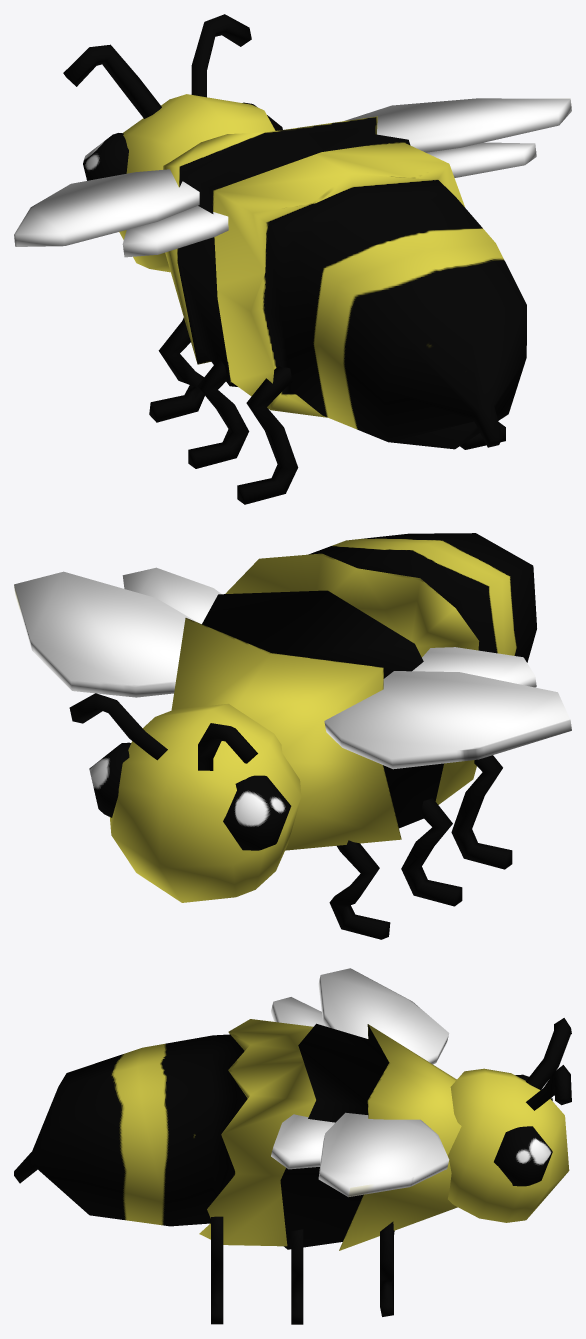
File: benson.glb
3 views of the same model, one above another, from view 1: azimuth 30°, elevation 25°; view 2: azimuth 150°, elevation 25°; view 3: azimuth 270°, elevation 25° (orthographic). The views are drawn at different scales.
Visible parts, largest first — view 1: Low Poly Bee; view 2: Low Poly Bee; view 3: Low Poly Bee.
Boxes of the visible parts, left/top/right/bottom form: Low Poly Bee: left=14, top=14, right=571, bottom=504; Low Poly Bee: left=14, top=533, right=571, bottom=939; Low Poly Bee: left=14, top=968, right=571, bottom=1324.
Size of the model in its own units: 1.72 by 0.8373 by 1.85.
1 material, 1 textured.
